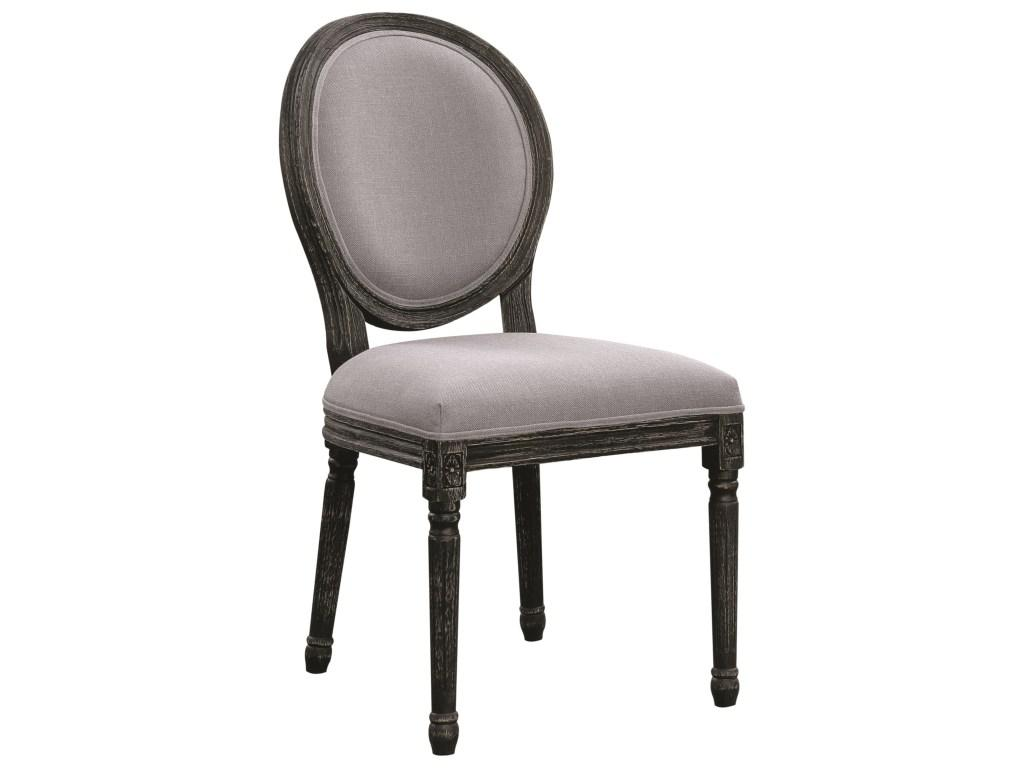chair: (234, 5, 813, 768)
